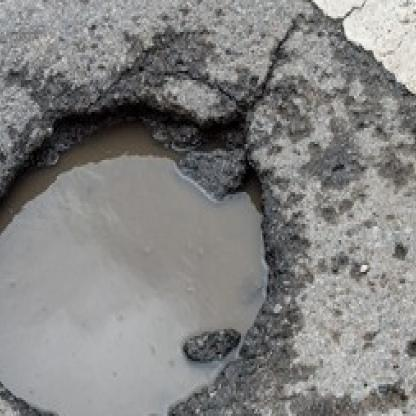pothole: (0, 80, 272, 416)
